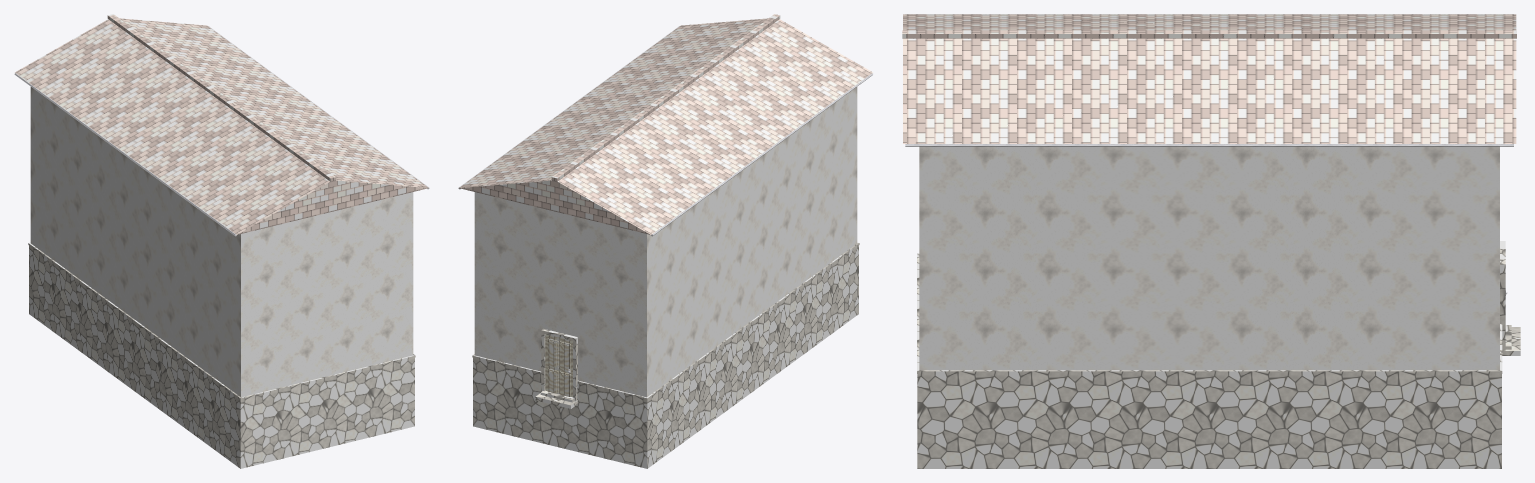
3 renders of one model, left to right at view 1: azimuth 30°, elevation 25°; view 2: azimuth 150°, elevation 25°; view 3: azimuth 270°, elevation 25°, orthographic. The views are drawn at different scales.
Visible parts, largest first — view 1: b1088806820; view 2: b1088806820; view 3: b1088806820.
Boxes of the visible parts, x1=… form: b1088806820: x1=14, y1=14, x2=429, y2=468; b1088806820: x1=458, y1=14, x2=873, y2=468; b1088806820: x1=902, y1=14, x2=1520, y2=468.
Bounding box in the file's own units: 6.76 × 9.09 × 13.48.
11 materials, 11 textured.
